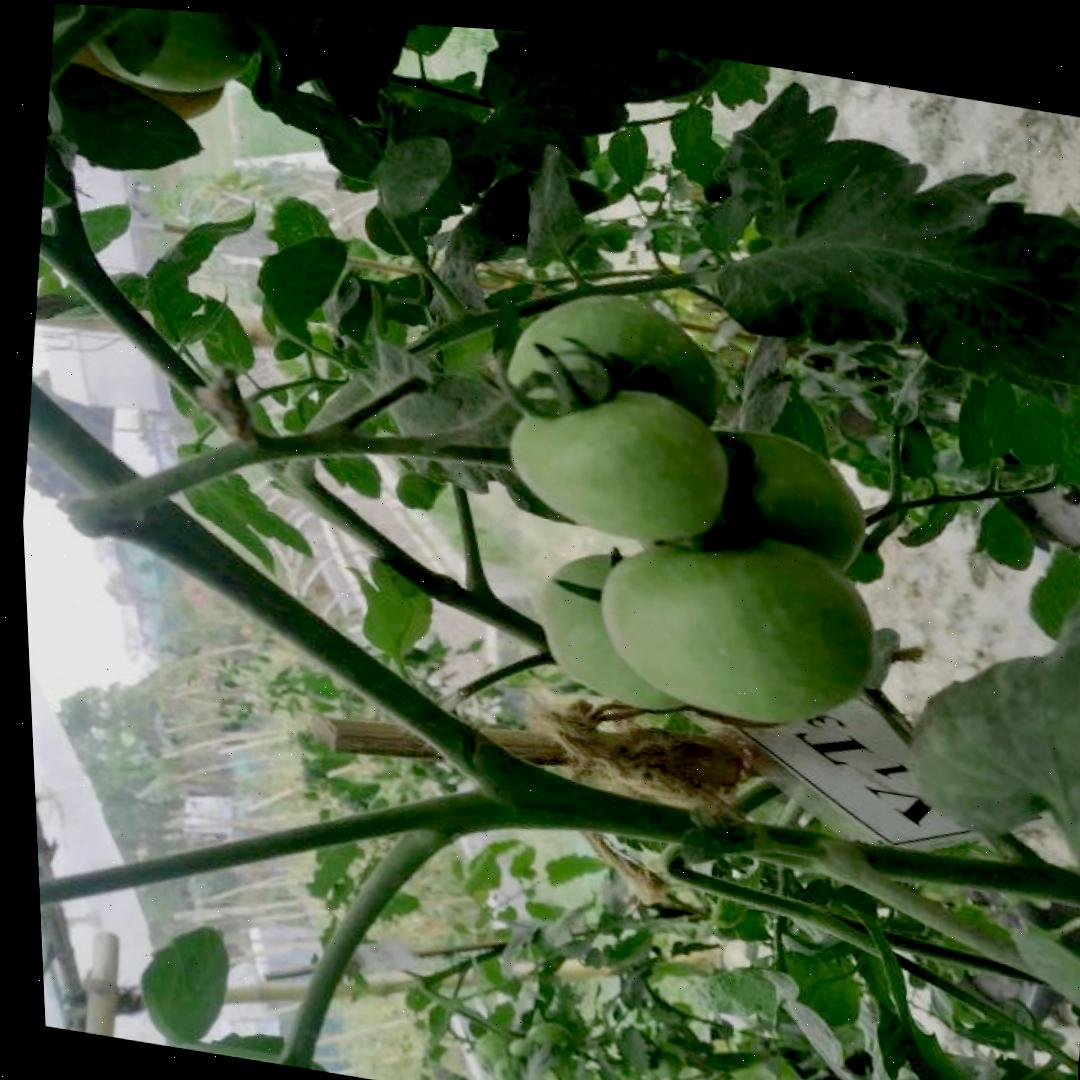mentah: (581, 508, 887, 744), (503, 372, 739, 556)
